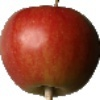apple: (1, 5, 99, 96)
